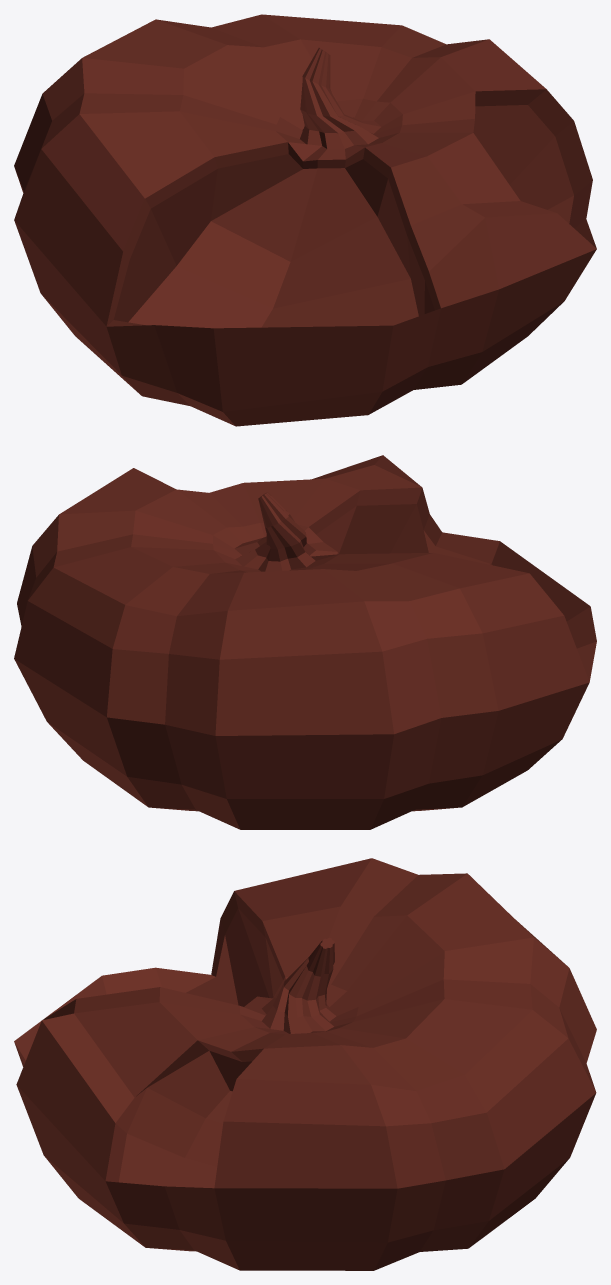
Rendered from BrokenPumpkin007.fbx.
3 renders of one model, top to bottom at view 1: azimuth 30°, elevation 25°; view 2: azimuth 150°, elevation 25°; view 3: azimuth 270°, elevation 25°, orthographic. The views are drawn at different scales.
Visible parts, largest first — view 1: BrokenPumpkin007; view 2: BrokenPumpkin007; view 3: BrokenPumpkin007.
Boxes of the visible parts, x1,y1,x2,y2 form: BrokenPumpkin007: (14, 14, 596, 426); BrokenPumpkin007: (14, 455, 596, 829); BrokenPumpkin007: (14, 858, 596, 1270).
Bounding box in the file's own units: 82.24 × 45.2 × 83.63.
